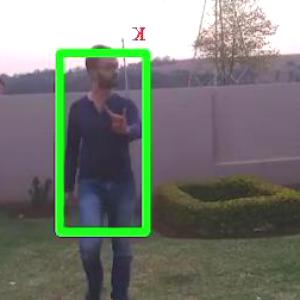takeoff-hand: (96, 95, 134, 136)
